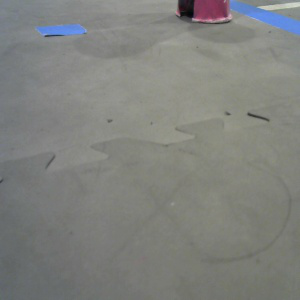right: (175, 1, 232, 23)
